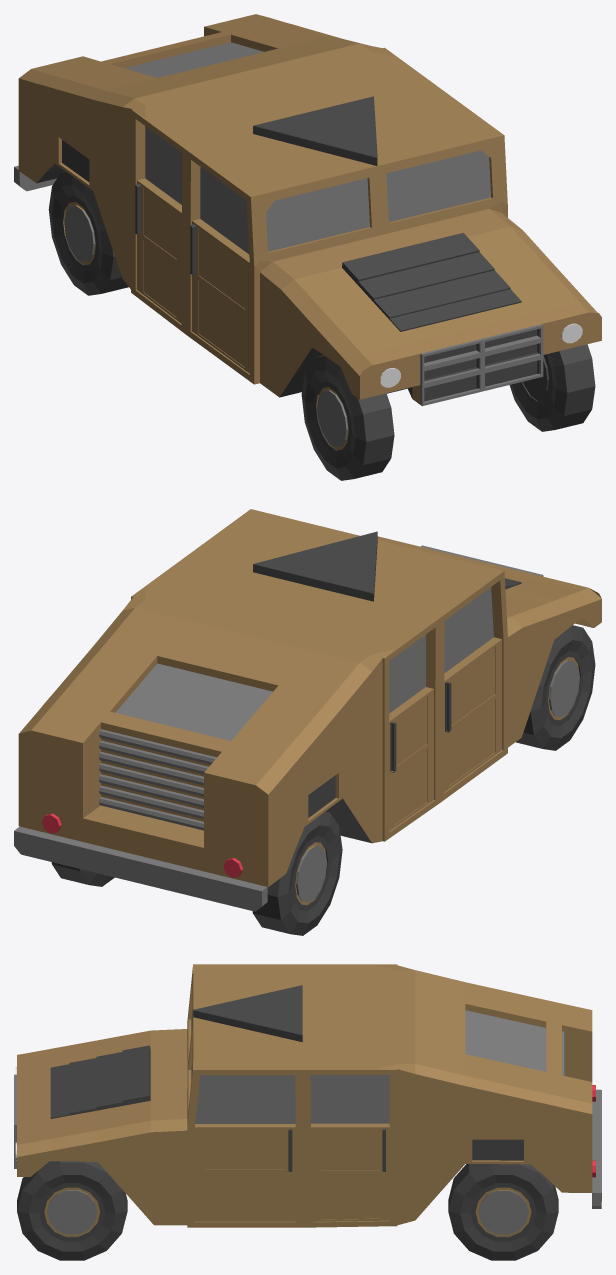
File: Military_Hummer.fbx
3 renders of one model, top to bottom at view 1: azimuth 30°, elevation 25°; view 2: azimuth 150°, elevation 25°; view 3: azimuth 270°, elevation 25°, orthographic. The views are drawn at different scales.
Parts seen in each view (by area): view 1: Cube; view 2: Cube; view 3: Cube.
Boxes of the visible parts, <box> form: Cube: <box>14,14,601,480</box>; Cube: <box>14,509,601,935</box>; Cube: <box>14,964,601,1260</box>.
Size of the model in its own units: 461 by 406 by 1064.
